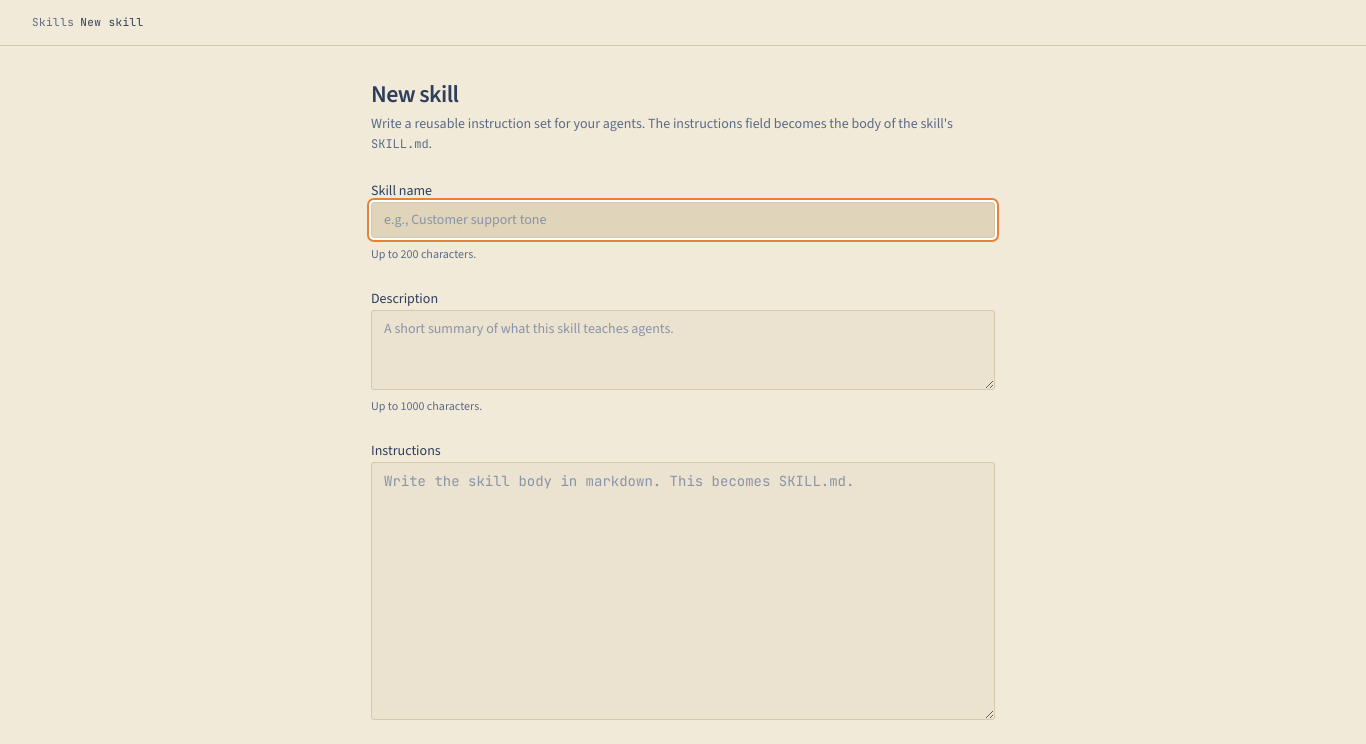
Test case: NewSkillPage › shows validation error when description is empty
This screenshot has width=1366, height=744.
Type "My Skill" into the field labelled "Skill name". click: [683, 220]
box: x1=371 y1=202 x2=995 y2=238
(page scrolled)
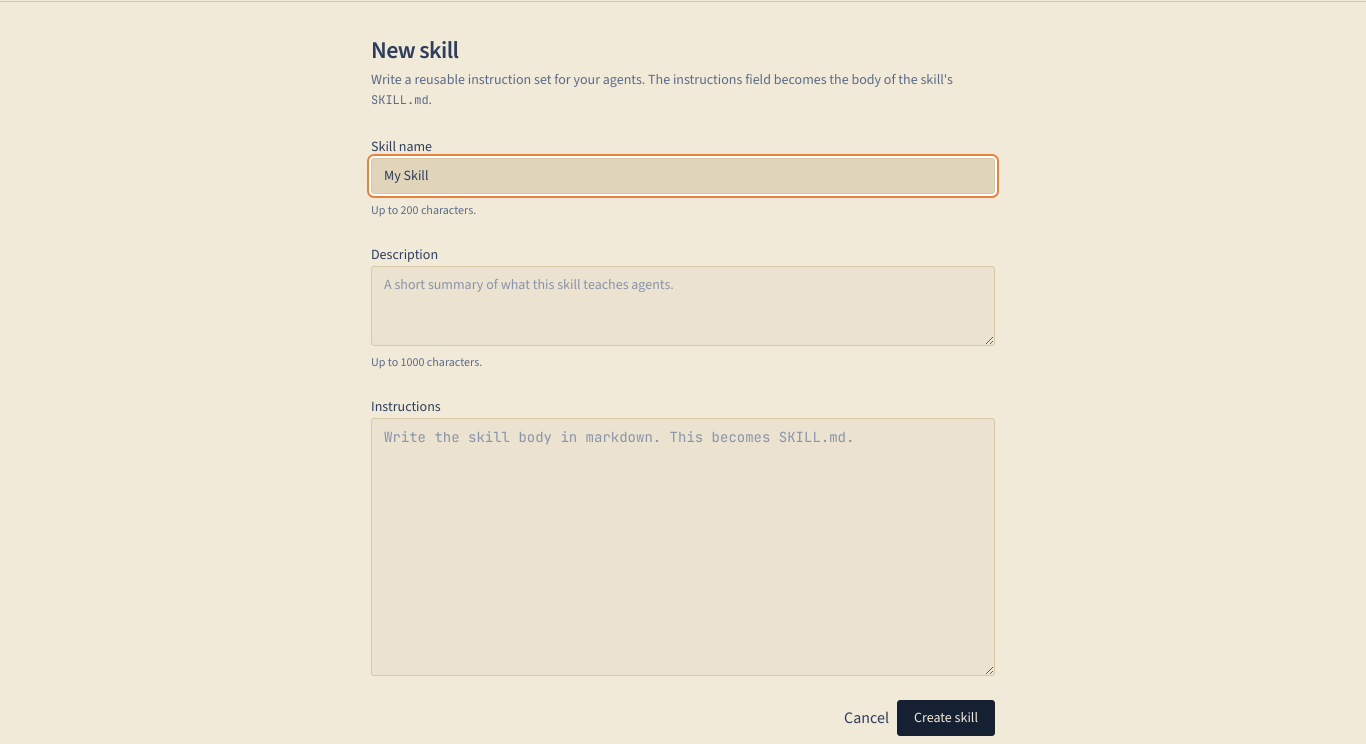
Click the button "Create skill". click: [946, 718]
box: x1=897 y1=700 x2=995 y2=736
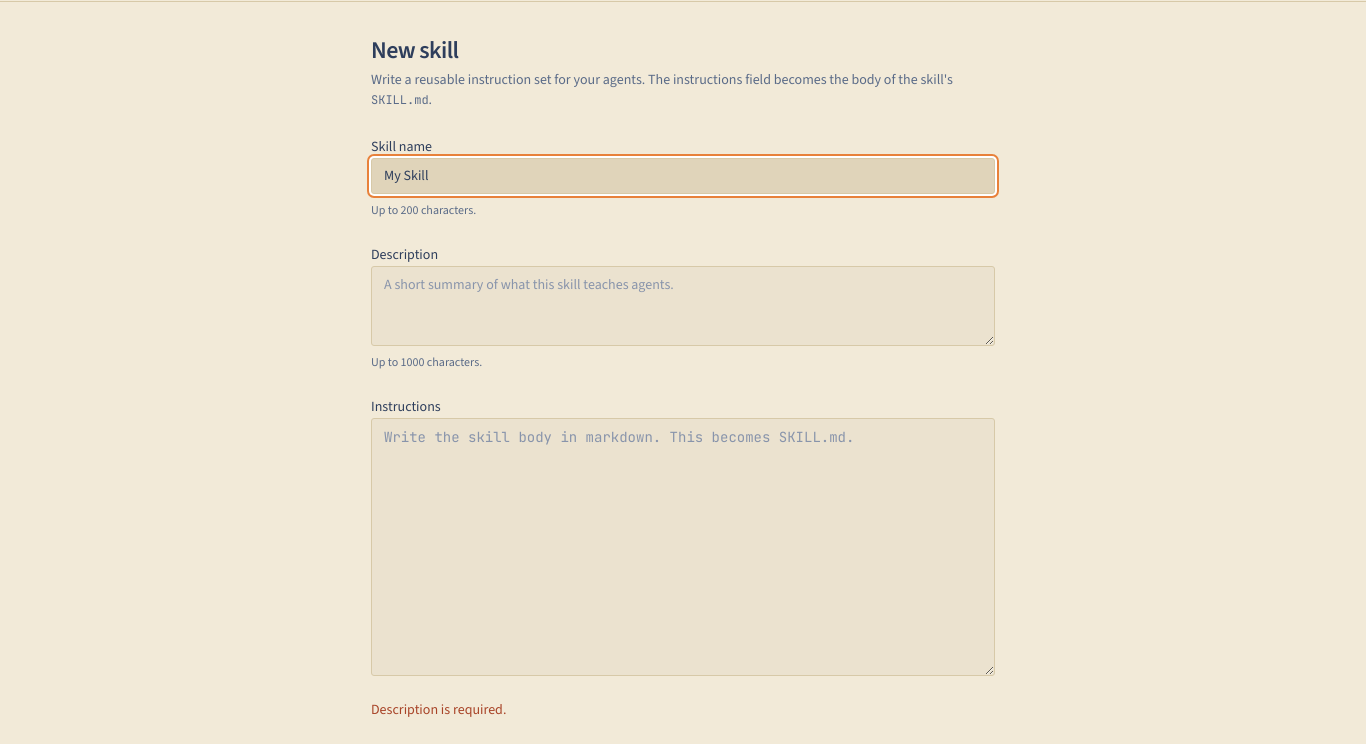
Now the message shows "Description is required", box x1=371 y1=700 x2=506 y2=718
